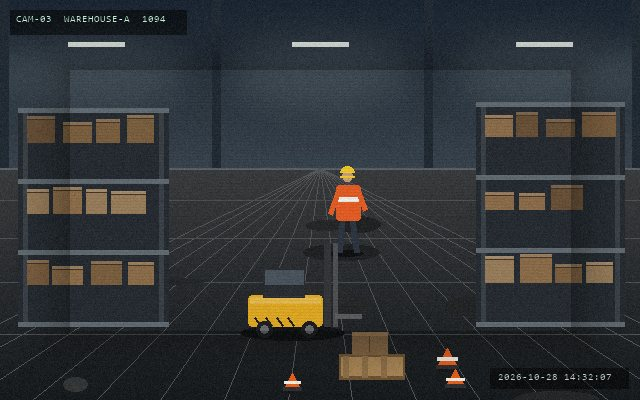cone: (435, 346, 459, 371), (444, 367, 466, 390), (282, 371, 302, 393)
forklift: (244, 241, 363, 340)
pallet: (337, 352, 406, 381)
person: (328, 164, 367, 255)
shelf: (476, 102, 624, 322), (18, 108, 168, 322)
